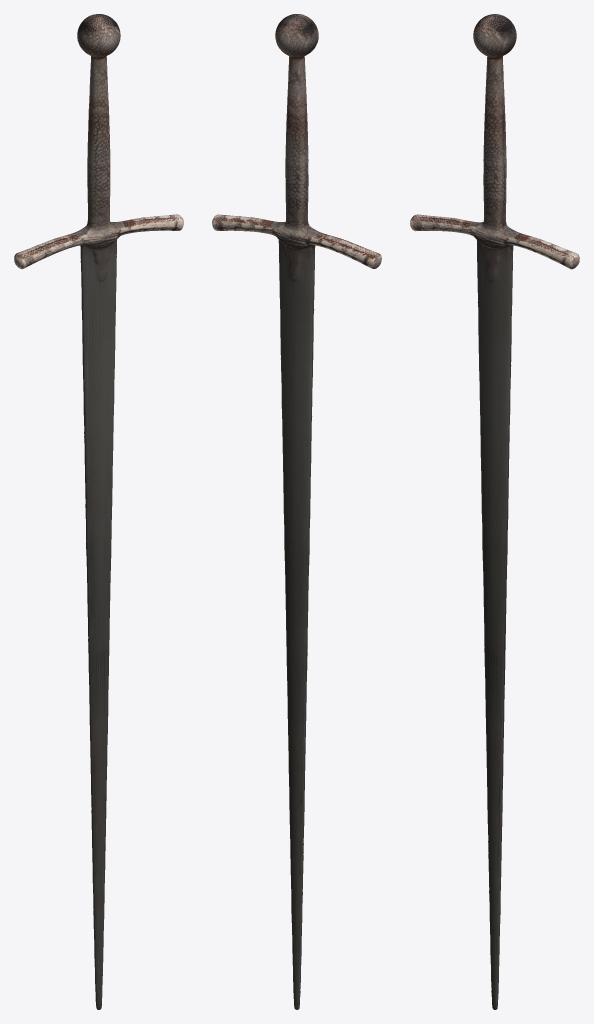
The model's file is Meshy_AI_Cruciform_Longsword_0503235835_texture.fbx.
3 renders of one model, left to right at view 1: azimuth 30°, elevation 25°; view 2: azimuth 150°, elevation 25°; view 3: azimuth 330°, elevation 25°, orthographic.
Visible parts, largest first — view 1: Mesh_0; view 2: Mesh_0; view 3: Mesh_0.
Boxes of the visible parts, box(x1,y1,x2,y2) form: Mesh_0: box(14, 14, 183, 1009); Mesh_0: box(212, 14, 381, 1009); Mesh_0: box(410, 14, 579, 1009).
Size of the model in its own units: 33.31 by 190 by 7.51.
Materials: 1 (1 with a texture image).
